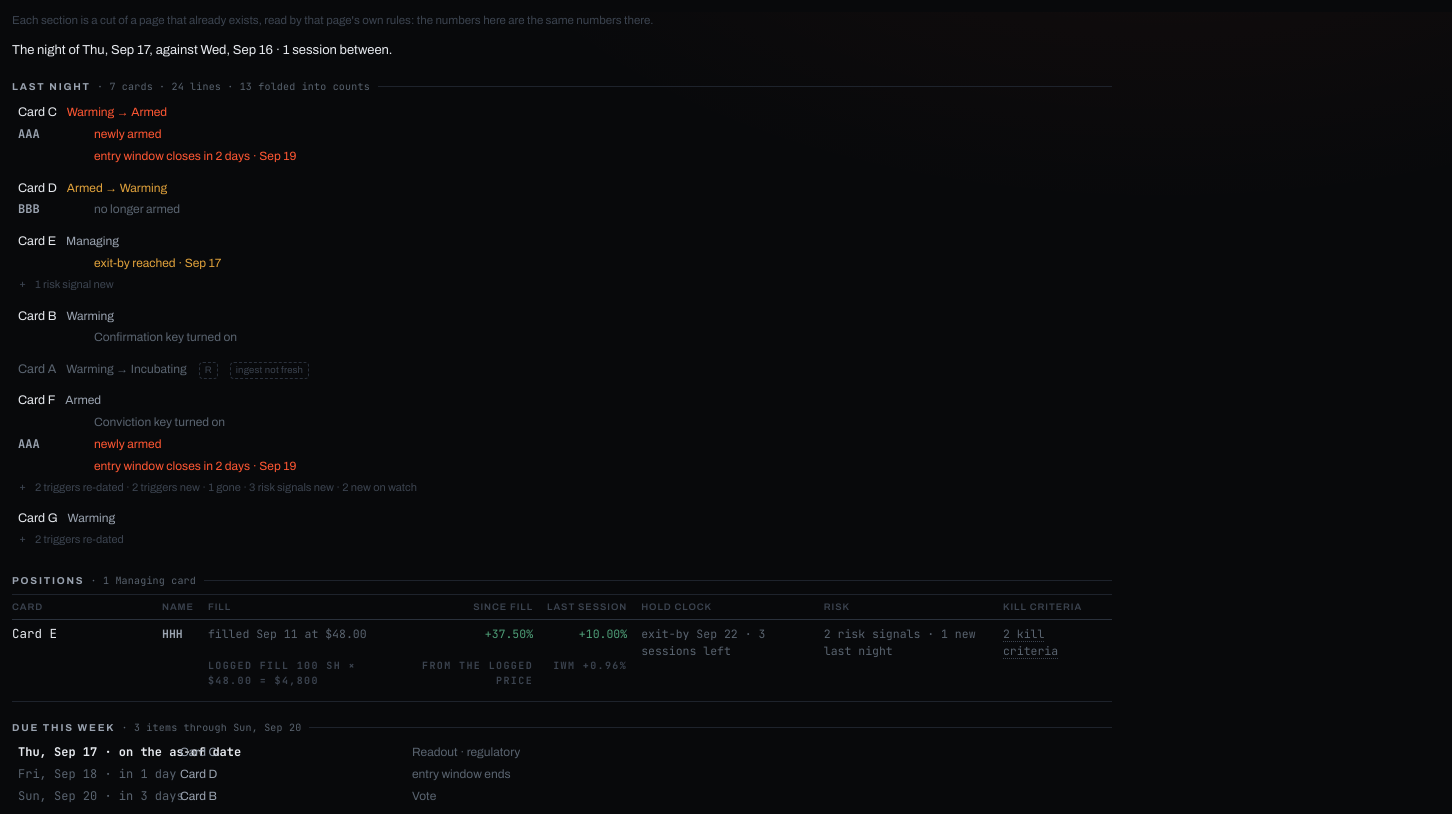
Test: DailyDigest — the fold (a card's routine churn is one quiet count line) › opens the folded lines in place, in the server's order, and closes them again with nothing removed
What coordinates should you click on to do the following:
click the 2nd button with test id "dd-fold"
I would click on:
 (218, 487)
Its box is 12,477 -> 423,497.
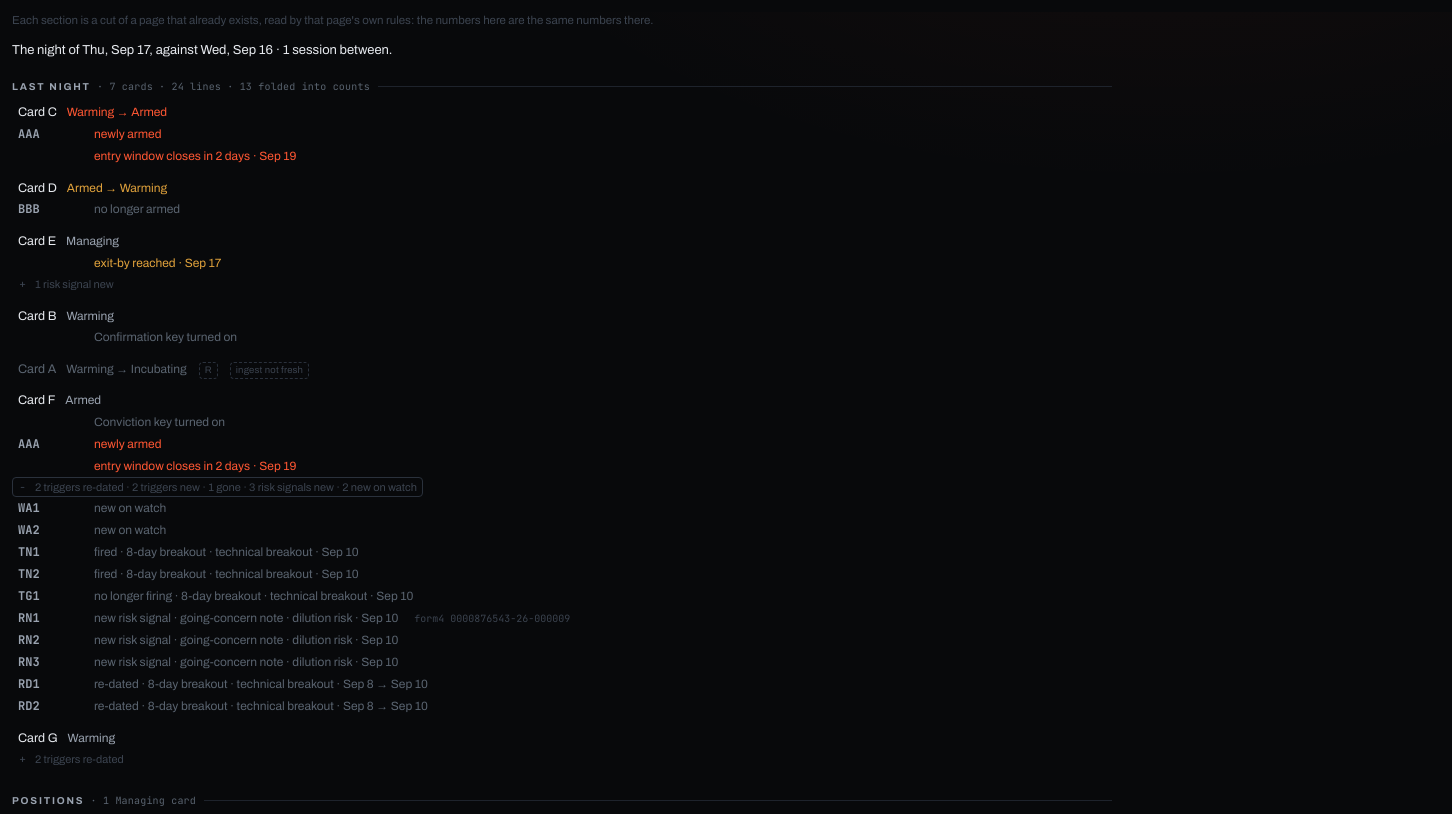
Result: the button with test id "dd-fold" is expanded
Result: the link "form4 0000876543-26-000009" is shown at 414,611 -> 570,626
What coordinates should you click on to do the following:
click the 2nd button with test id "dd-fold"
I would click on:
 (218, 487)
Its box is 12,477 -> 423,497.
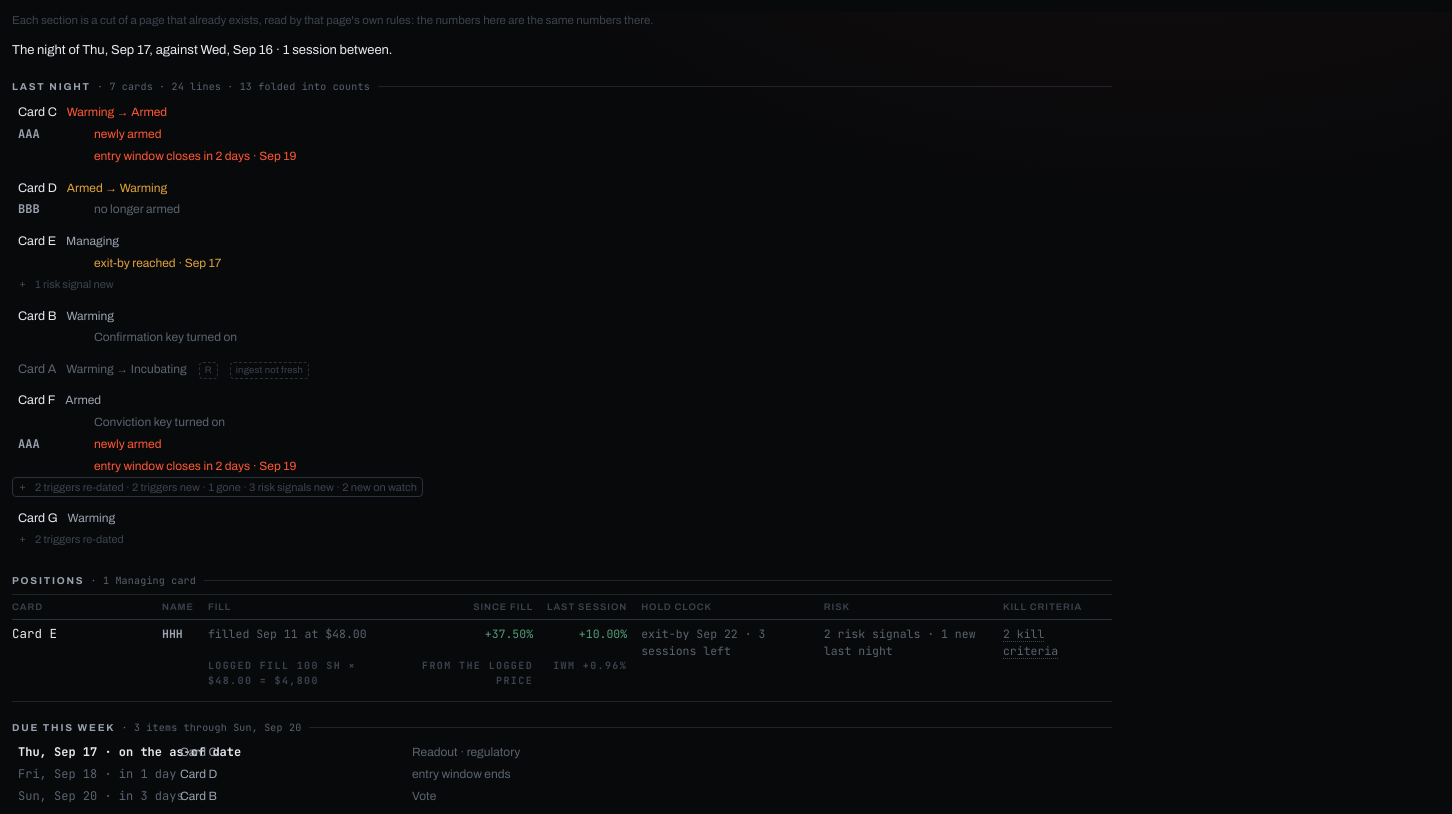
Result: the link "form4 0000876543-26-000009" is gone
